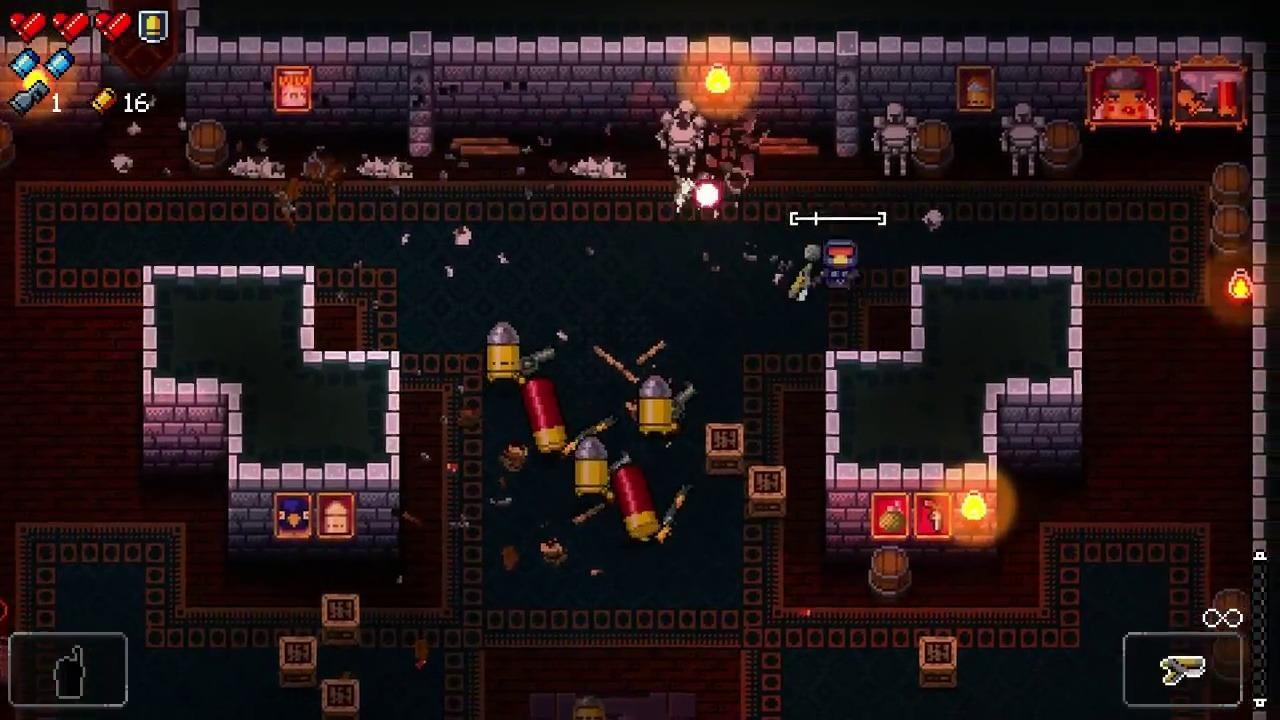bullet: (692, 178, 721, 211)
bullet_kin: (486, 320, 521, 382), (574, 436, 608, 496), (641, 376, 672, 437)
player: (822, 238, 858, 292)
red_shotgun_kin: (522, 379, 567, 453), (613, 468, 659, 539)
